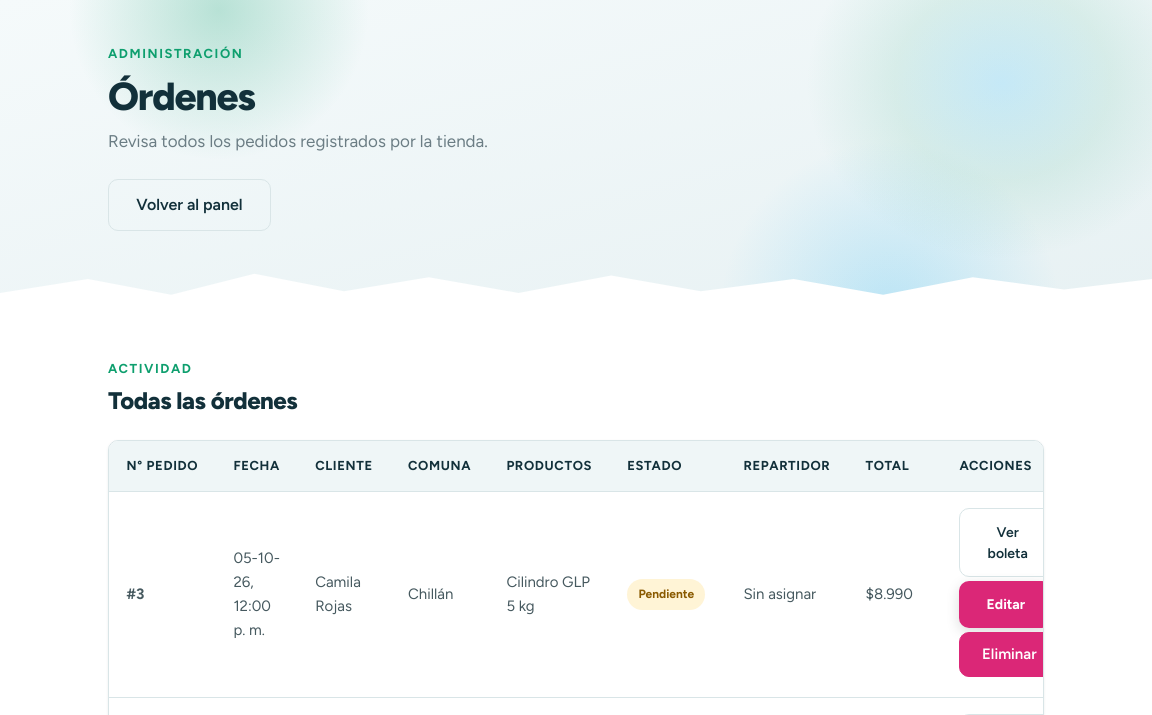
Test: Órdenes del administrador › muestra la boleta con productos, entrega y total
This screenshot has width=1152, height=715.
Click the button "Ver boleta" in the row of "05-10-26, 12:00 p. m.".
click(1008, 543)  # box [959, 508, 1056, 577]
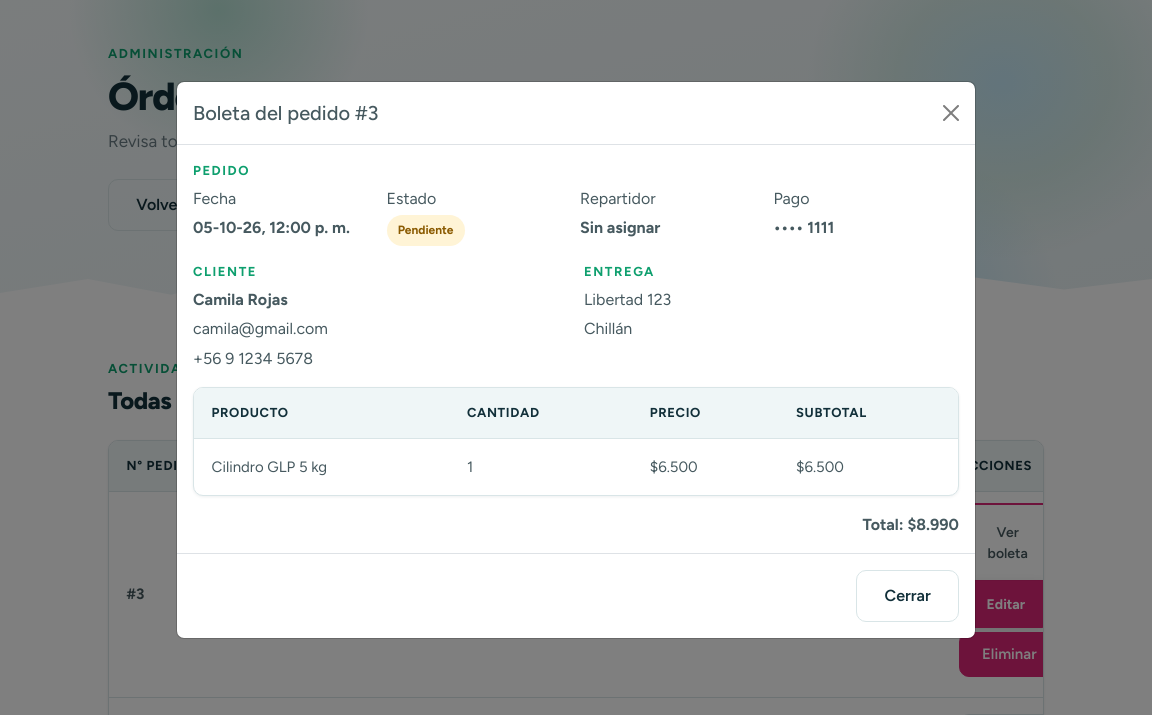
Expected: the heading "Boleta del pedido #3" is shown, [193, 98, 378, 128]
Expected: the text "Pedido" is shown, [193, 163, 250, 178]
Expected: the text "Fecha" is shown, [193, 189, 236, 208]
